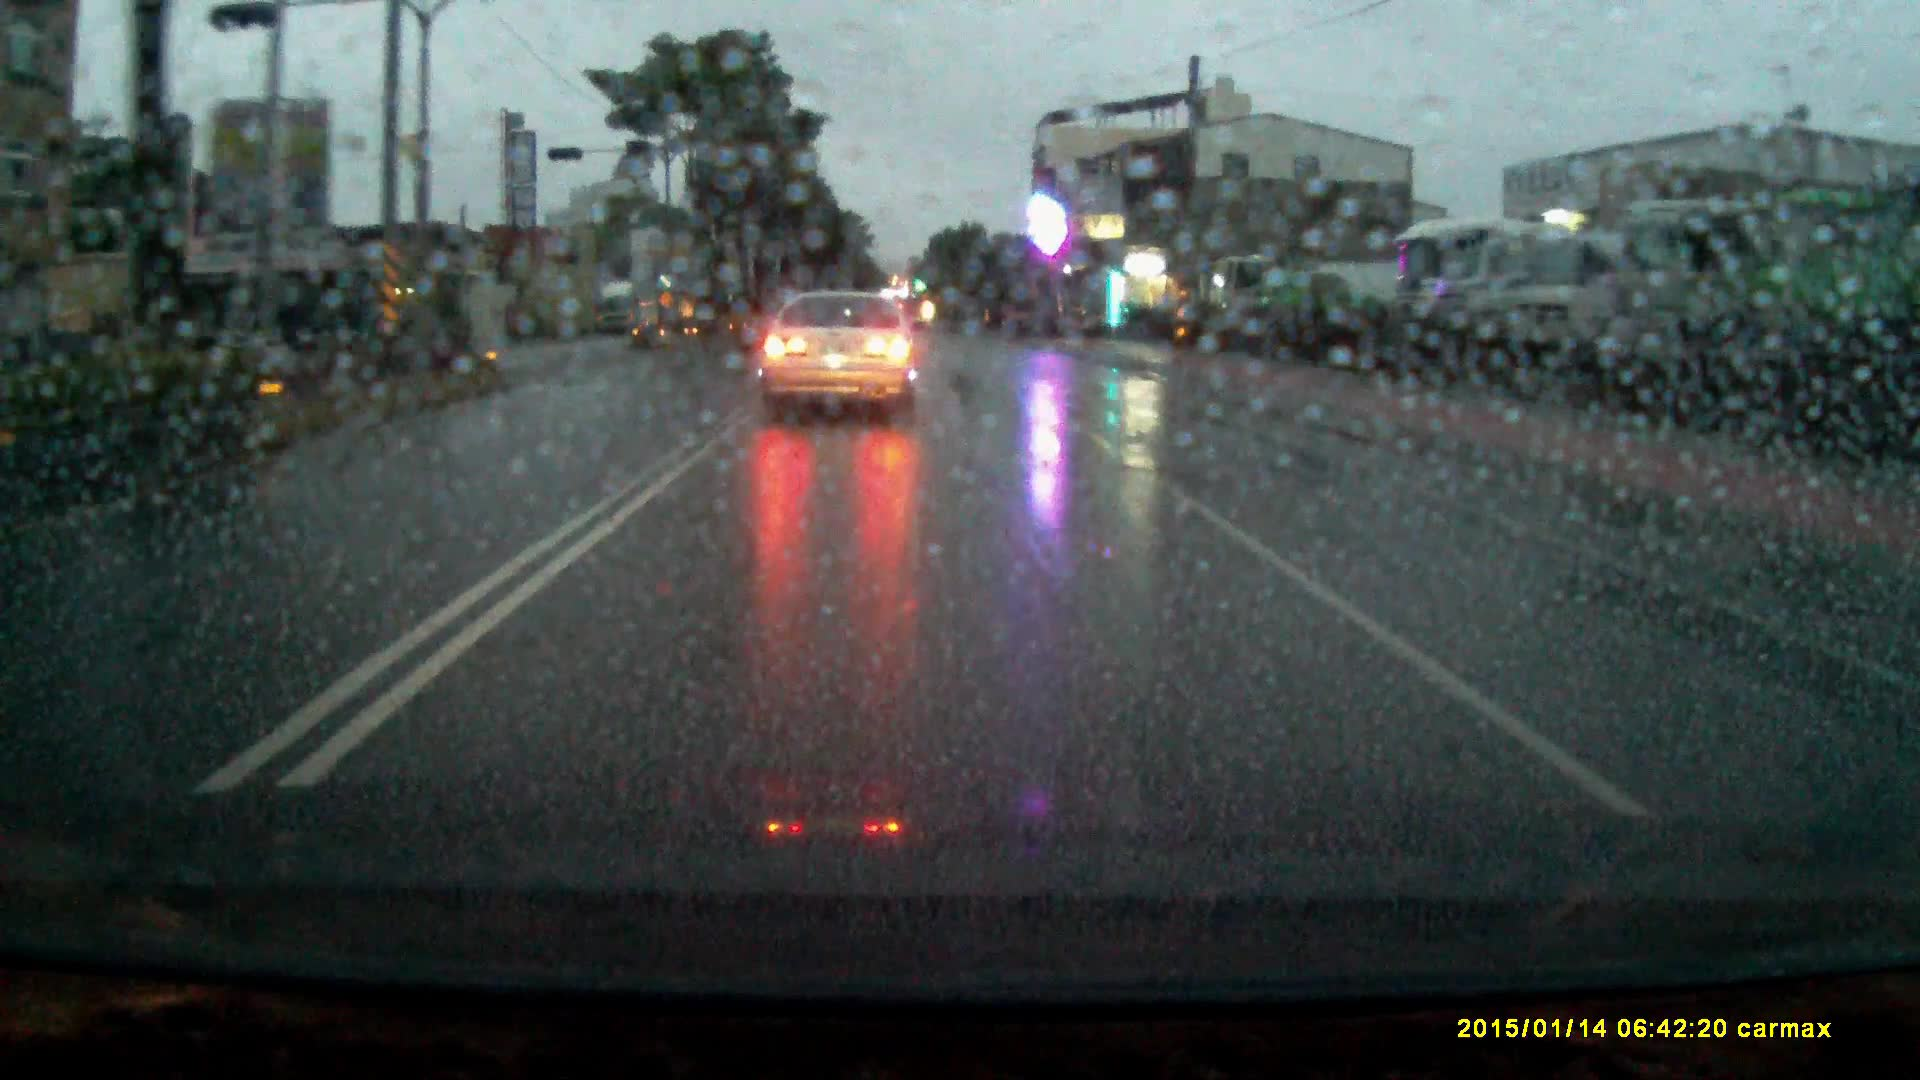vehicle: (1735, 189, 1898, 454), (1629, 194, 1774, 407), (1476, 224, 1627, 384), (758, 291, 923, 425), (1393, 222, 1495, 353), (1253, 262, 1404, 334), (1211, 255, 1279, 326), (596, 280, 659, 338)
